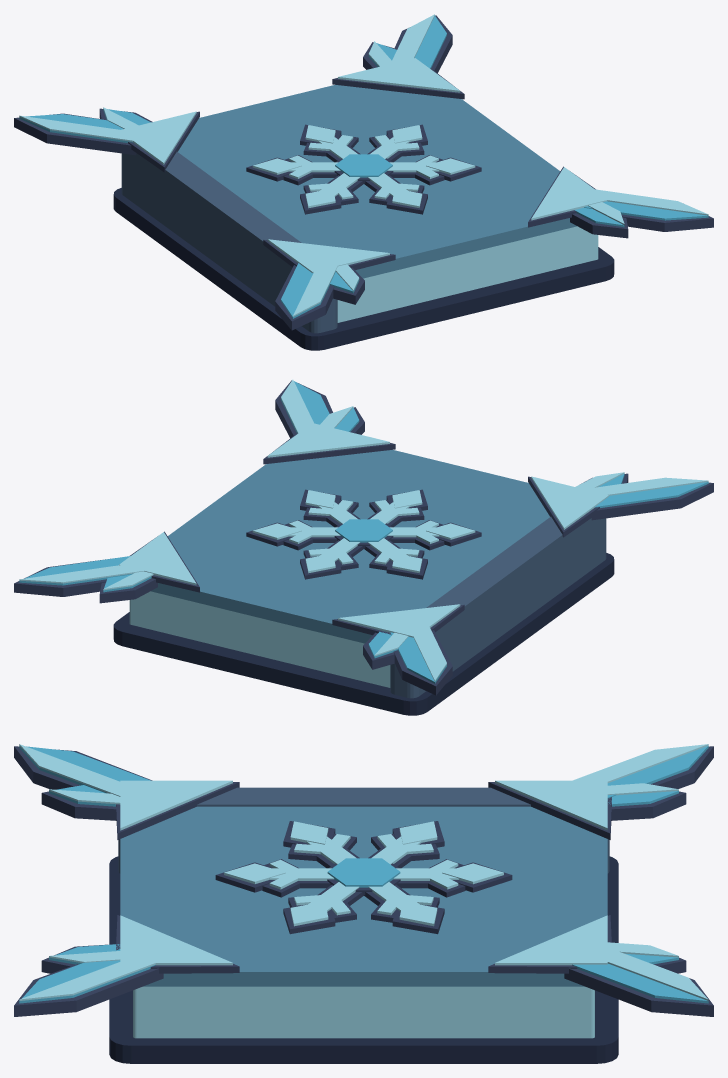
File: book_gelo.fbx
The picture shows the model from 3 angles, top to bottom: view 1: azimuth 30°, elevation 25°; view 2: azimuth 150°, elevation 25°; view 3: azimuth 270°, elevation 25°; orthographic projection. The views are drawn at different scales.
Visible parts, largest first — view 1: book_gelo_livro, book_gelo, book_gelo_anim_floco; view 2: book_gelo_livro, book_gelo, book_gelo_anim_floco; view 3: book_gelo_livro, book_gelo, book_gelo_anim_floco.
Boxes of the visible parts, box(x1,y1,x2,y2) form: book_gelo_livro: box(113, 84, 614, 350); book_gelo: box(14, 14, 713, 330); book_gelo_anim_floco: box(246, 124, 481, 214); book_gelo_livro: box(113, 449, 614, 715); book_gelo: box(14, 379, 713, 695); book_gelo_anim_floco: box(246, 489, 481, 579); book_gelo_livro: box(109, 787, 618, 1063); book_gelo: box(14, 744, 713, 1016); book_gelo_anim_floco: box(215, 821, 512, 934).
Size of the model in its own units: 3.38 by 0.585 by 3.85.
Materials: 1 (1 with a texture image).
